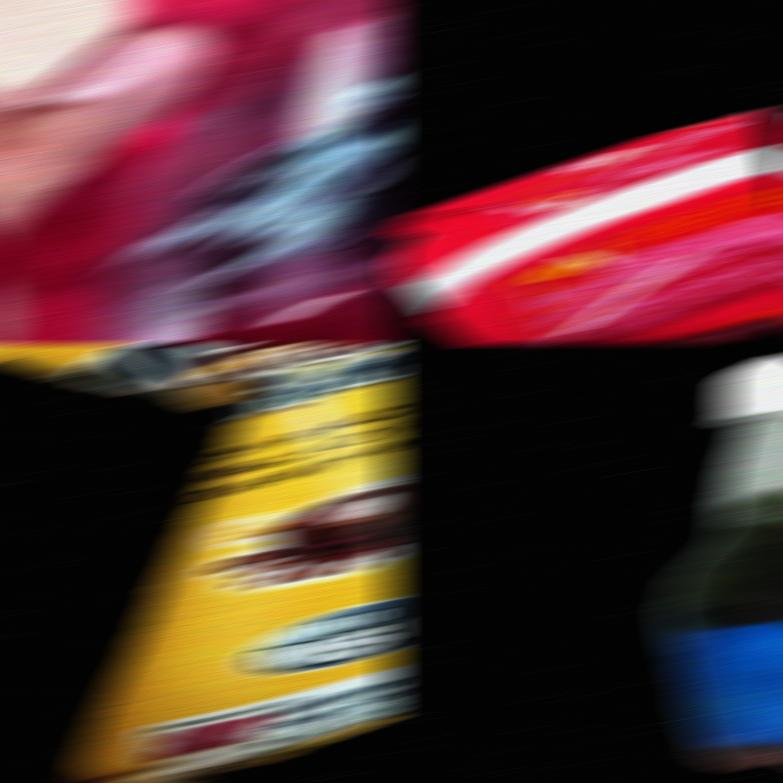Moby Caramel: (0, 345, 399, 782)
lucky me cicken: (385, 107, 783, 343)
pepsi: (659, 354, 783, 768)
sting: (0, 1, 399, 343)
